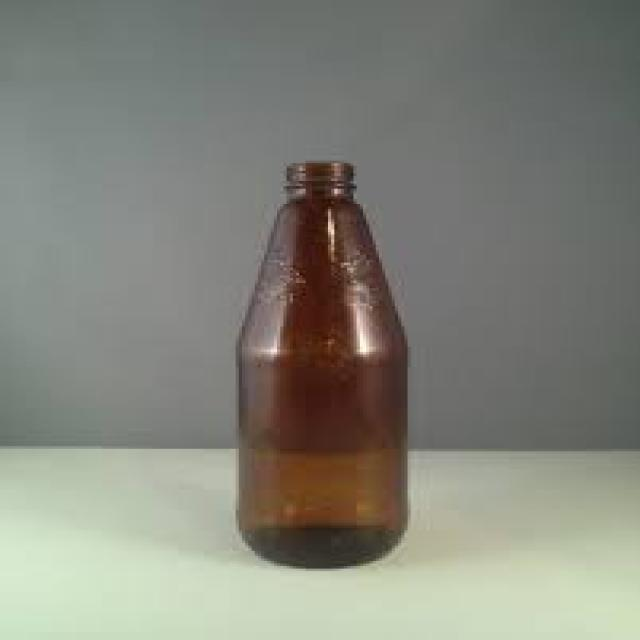glass: (229, 161, 408, 566)
